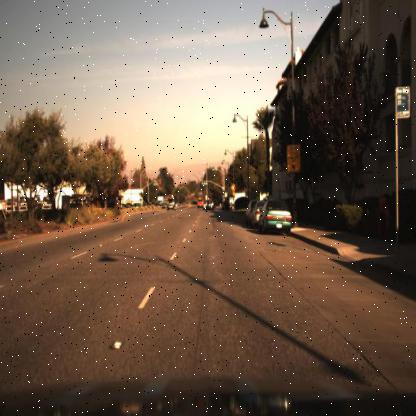car: (257, 197, 291, 234), (164, 192, 177, 217), (244, 199, 254, 231), (205, 195, 217, 214)
